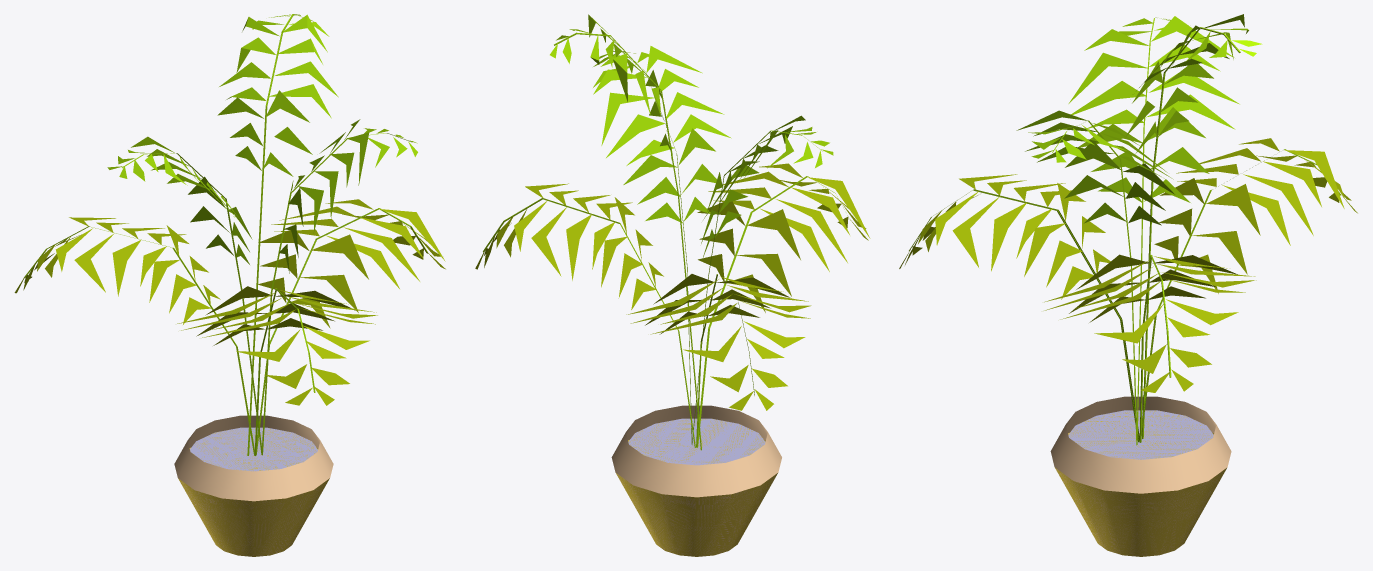
The model's file is Plant.fbx.
3 renders of one model, left to right at view 1: azimuth 30°, elevation 25°; view 2: azimuth 150°, elevation 25°; view 3: azimuth 270°, elevation 25°, orthographic. The views are drawn at different scales.
Visible parts, largest first — view 1: SketchUp.138; view 2: SketchUp.138; view 3: SketchUp.138.
Boxes of the visible parts, bbox=[...] form: SketchUp.138: bbox=[14, 14, 445, 556]; SketchUp.138: bbox=[475, 14, 870, 556]; SketchUp.138: bbox=[899, 14, 1357, 556].
Bounding box in the file's own units: 77.11 × 103 × 77.04.
